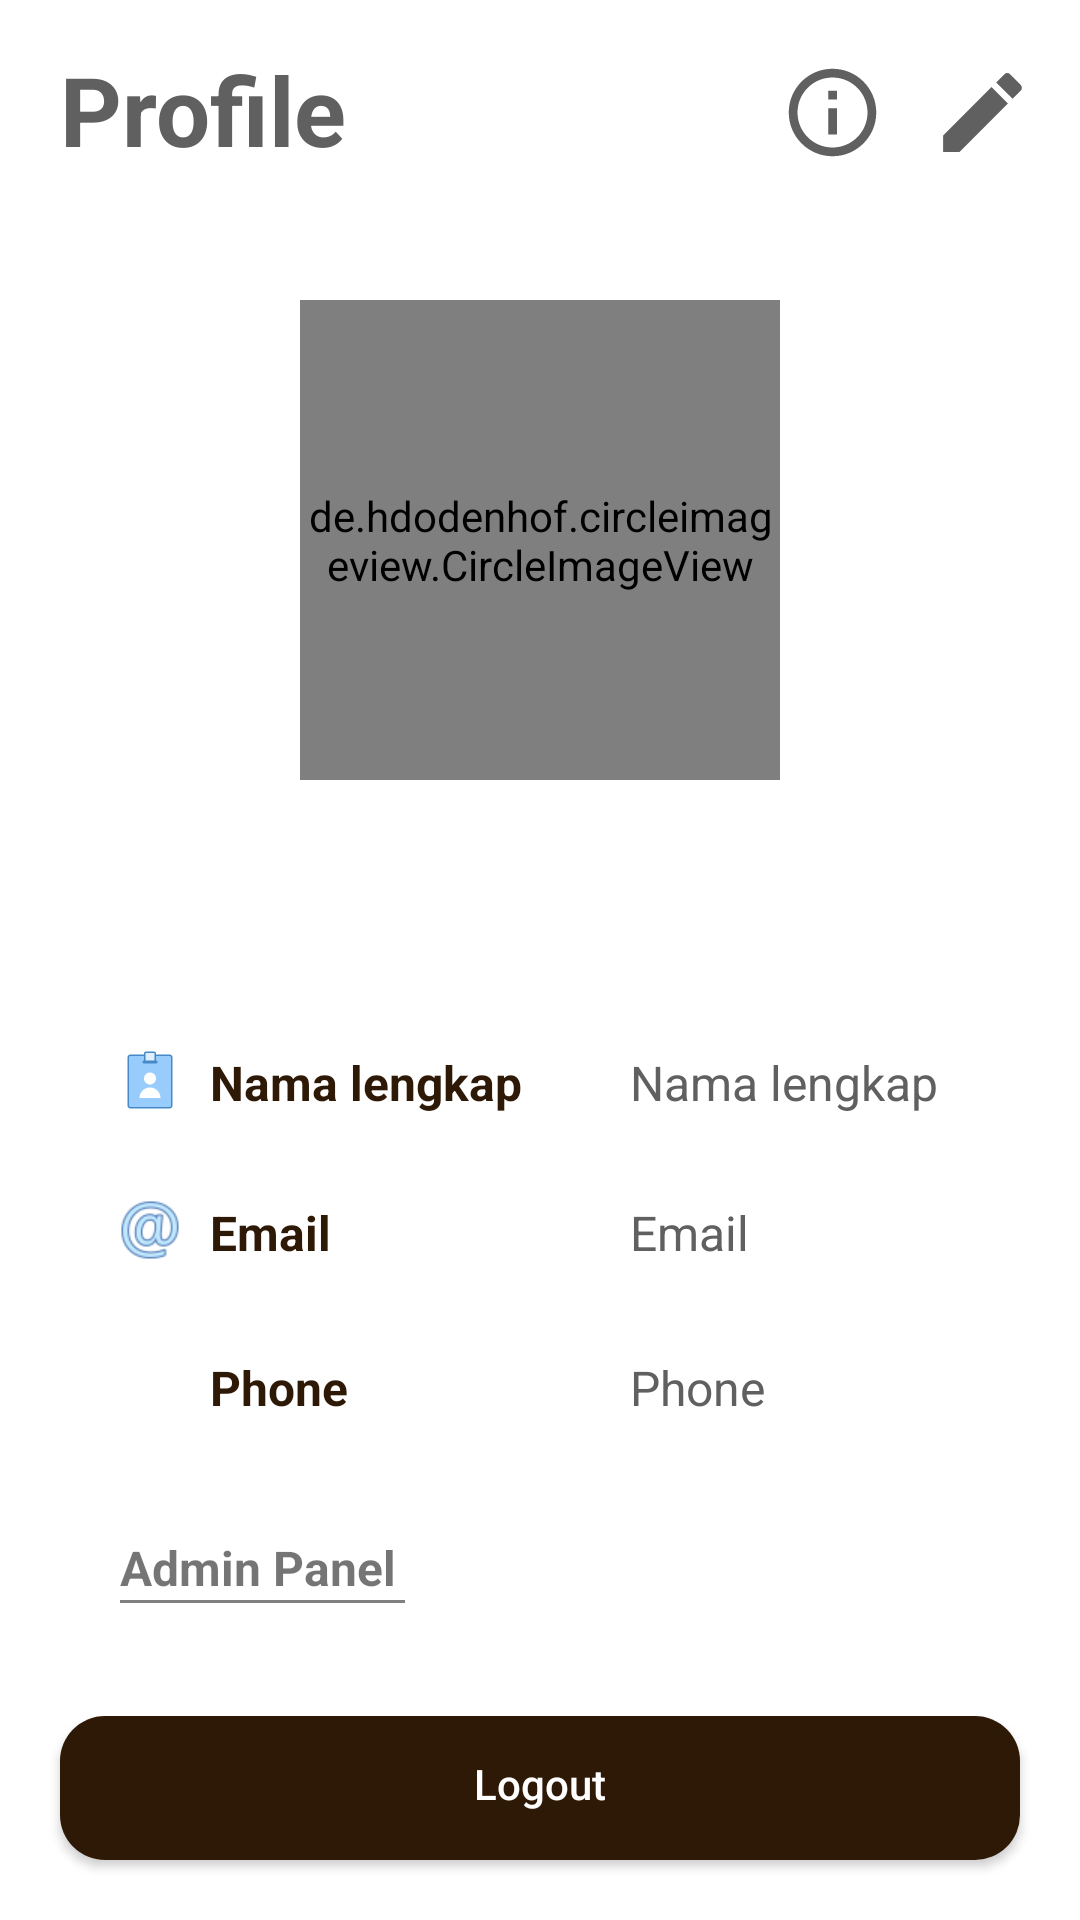

Icons on this 1080 x 1920 Android screen, each with the point to tap as [x,y]:
info: [832,112]
update: [982,112]
